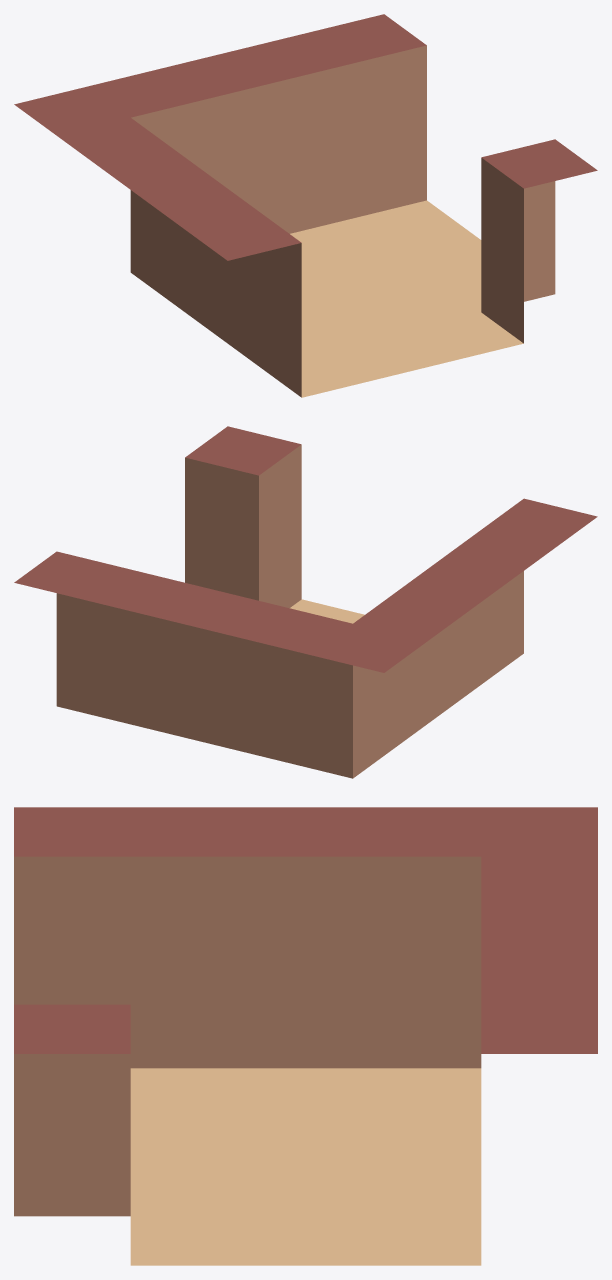
The model's file is SM_Tile_Bend.fbx.
3 views of the same model, one above another, from view 1: azimuth 30°, elevation 25°; view 2: azimuth 150°, elevation 25°; view 3: azimuth 270°, elevation 25° (orthographic). The views are drawn at different scales.
Visible parts, largest first — view 1: SM_Tile_Bend; view 2: SM_Tile_Bend; view 3: SM_Tile_Bend.
Part boxes in pixels (x1=…): SM_Tile_Bend: x1=14, y1=14, x2=597, y2=397; SM_Tile_Bend: x1=14, y1=426, x2=597, y2=778; SM_Tile_Bend: x1=14, y1=807, x2=597, y2=1265.
Size of the model in its own units: 500 by 200 by 500.
